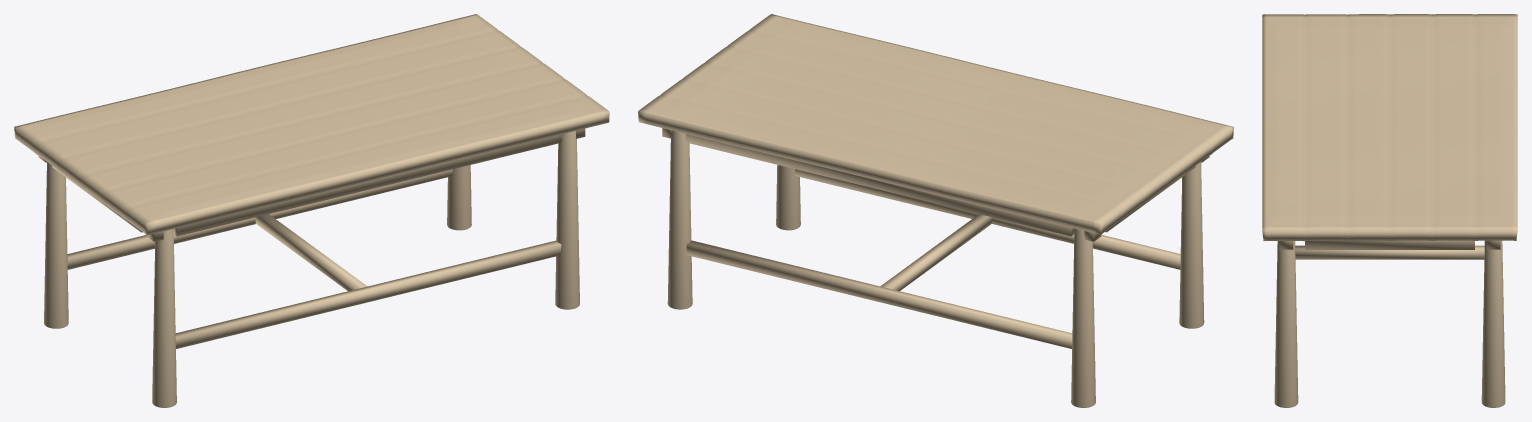
File: diningTable.glb
3 views of the same model, side by side, from view 1: azimuth 30°, elevation 25°; view 2: azimuth 150°, elevation 25°; view 3: azimuth 270°, elevation 25° (orthographic). The views are drawn at different scales.
Visible parts, largest first — view 1: tabletop, stretcher_-1, leg_-1_-1, leg_1_-1, apron_long_-1, leg_-1_1, stretcher_1, stretcher_mid, leg_1_1; view 2: tabletop, stretcher_1, leg_-1_1, leg_1_1, apron_long_1, leg_-1_-1, stretcher_-1, stretcher_mid, leg_1_-1; view 3: tabletop, leg_1_1, leg_1_-1, stretcher_mid, apron_short_1.
Boxes of the visible parts, x1=… form: tabletop: x1=14, y1=14, x2=609, y2=235; stretcher_-1: x1=175, y1=240, x2=561, y2=348; leg_-1_-1: x1=152, y1=229, x2=176, y2=407; leg_1_-1: x1=555, y1=131, x2=579, y2=309; apron_long_-1: x1=173, y1=134, x2=561, y2=236; leg_-1_1: x1=44, y1=162, x2=68, y2=328; stretcher_1: x1=67, y1=169, x2=452, y2=269; stretcher_mid: x1=255, y1=214, x2=367, y2=291; leg_1_1: x1=447, y1=165, x2=471, y2=230; tabletop: x1=638, y1=14, x2=1233, y2=234; stretcher_1: x1=686, y1=240, x2=1072, y2=348; leg_-1_1: x1=1071, y1=228, x2=1095, y2=407; leg_1_1: x1=667, y1=130, x2=692, y2=309; apron_long_1: x1=685, y1=134, x2=1074, y2=236; leg_-1_-1: x1=1179, y1=162, x2=1204, y2=328; stretcher_-1: x1=795, y1=169, x2=1180, y2=269; stretcher_mid: x1=880, y1=214, x2=992, y2=290; leg_1_-1: x1=776, y1=165, x2=800, y2=230; tabletop: x1=1262, y1=14, x2=1517, y2=241; leg_1_1: x1=1481, y1=240, x2=1505, y2=407; leg_1_-1: x1=1274, y1=241, x2=1298, y2=407; stretcher_mid: x1=1295, y1=245, x2=1484, y2=259; apron_short_1: x1=1305, y1=240, x2=1474, y2=249.
Bounding box in the file's own units: 1.8 × 0.7296 × 0.9.
